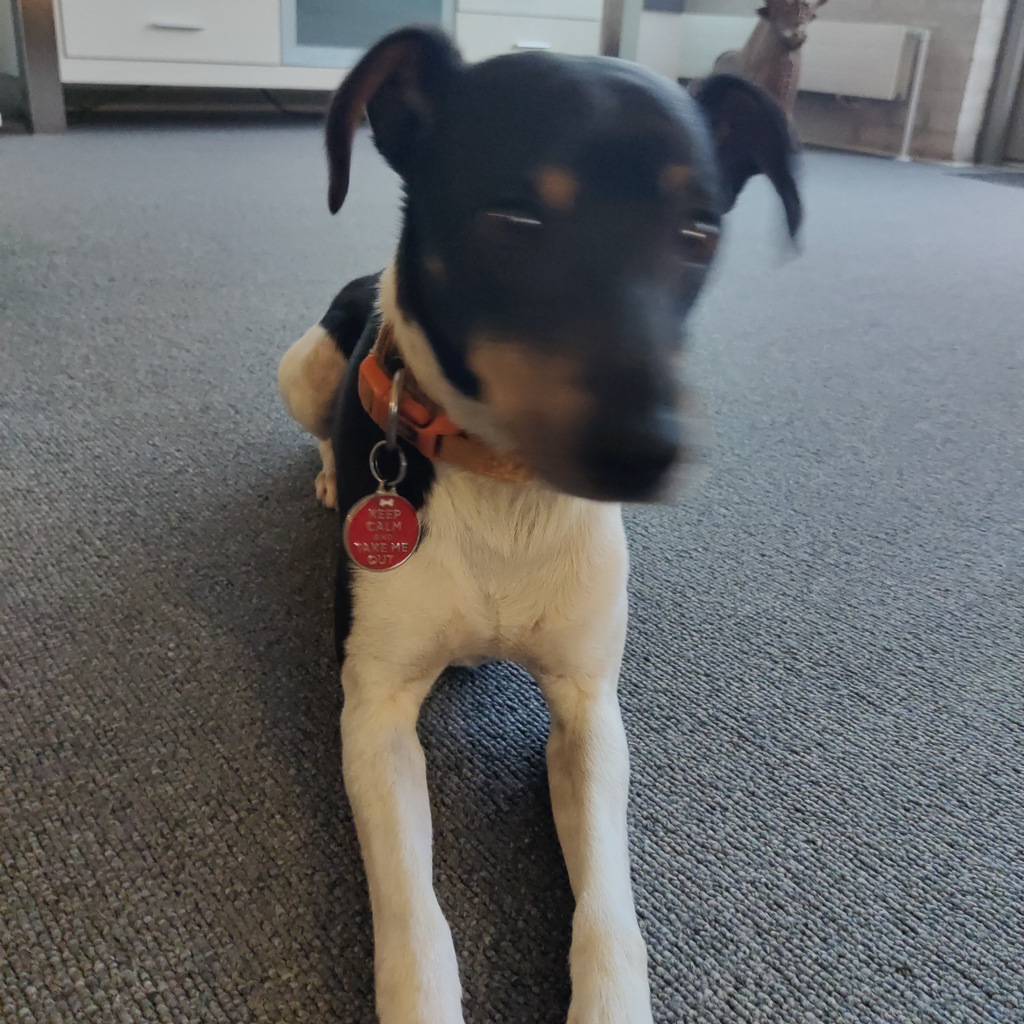Cattle: (700, 0, 834, 117)
Dog: (242, 11, 840, 1024)
